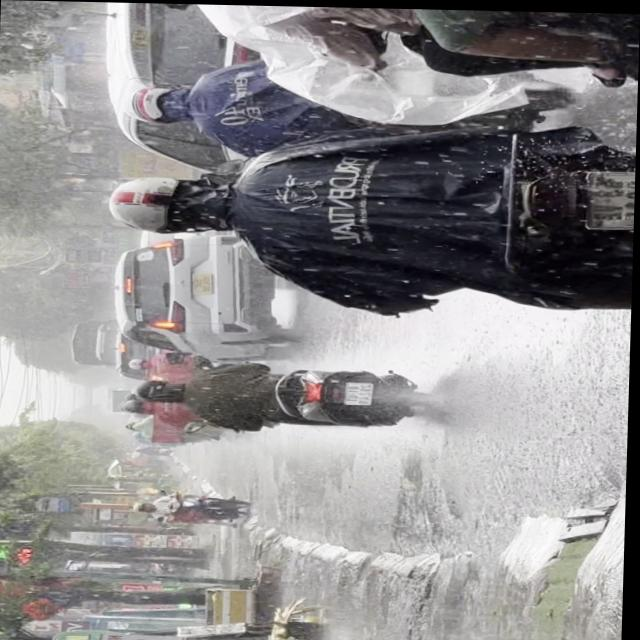helmet: (106, 172, 229, 236), (123, 80, 192, 123), (131, 377, 184, 402), (126, 3, 201, 8)
licenseplate: (97, 62, 639, 323), (112, 2, 640, 86), (119, 356, 445, 435)
nohelmet: (584, 169, 636, 227), (345, 381, 373, 403)
